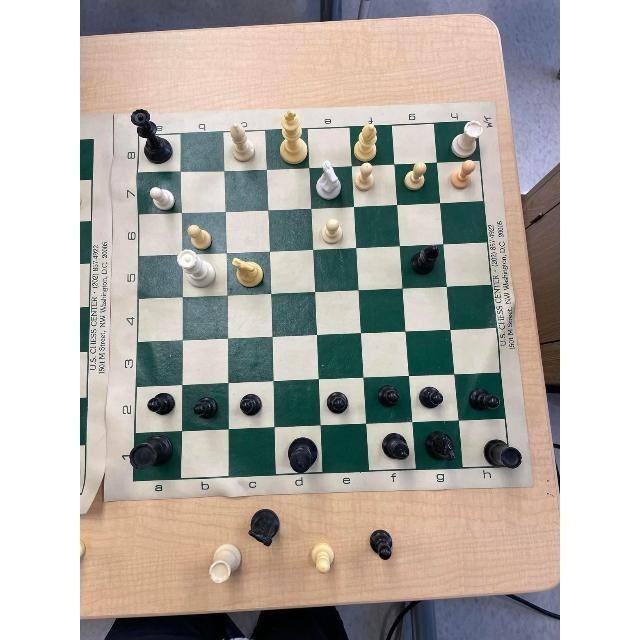black-bishop: (378, 429, 413, 468), (410, 242, 440, 278)
black-king: (287, 433, 319, 480)
black-knight: (422, 430, 458, 465)
black-pawn: (468, 383, 502, 419), (145, 389, 179, 421), (418, 384, 446, 414), (237, 390, 265, 419), (192, 394, 219, 424), (374, 383, 401, 413), (325, 388, 350, 417)
black-queen: (129, 108, 177, 164)
black-rook: (129, 433, 178, 477), (482, 433, 524, 474)
white-bishop: (226, 121, 258, 165), (352, 123, 379, 163)
white-king: (278, 110, 307, 168)
white-knight: (312, 160, 344, 204), (229, 256, 267, 290)
white-pawn: (146, 183, 177, 215), (185, 221, 216, 253), (450, 156, 477, 192), (353, 160, 379, 196), (403, 160, 428, 194), (320, 216, 346, 248)
white-queen: (174, 250, 218, 292)
white-rook: (450, 118, 486, 160)
